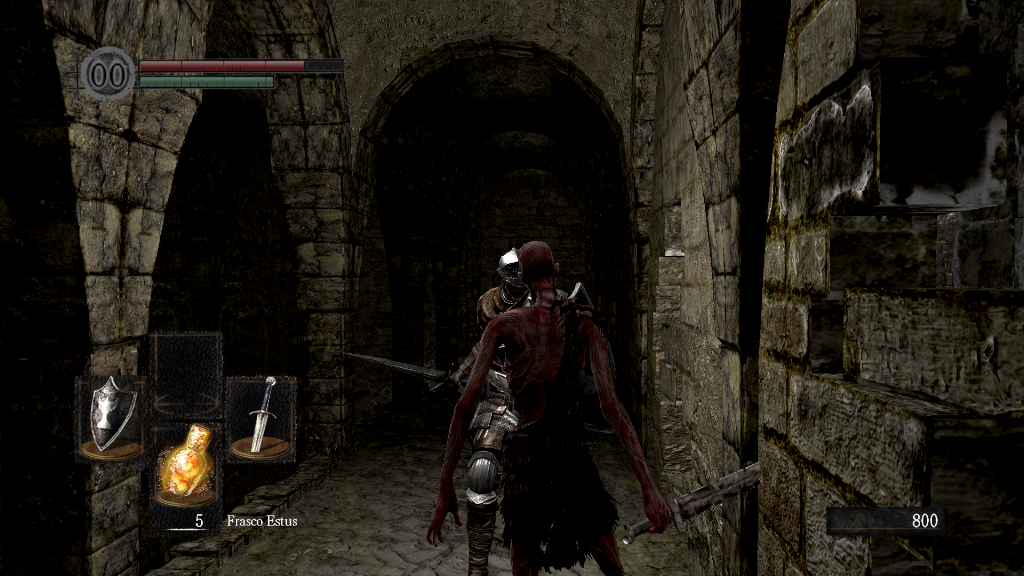health: (138, 58, 343, 71)
hollow: (427, 243, 675, 576)
humanity: (80, 45, 136, 102)
player: (337, 245, 597, 576)
souls: (825, 506, 945, 536)
stamina: (138, 74, 274, 88)
